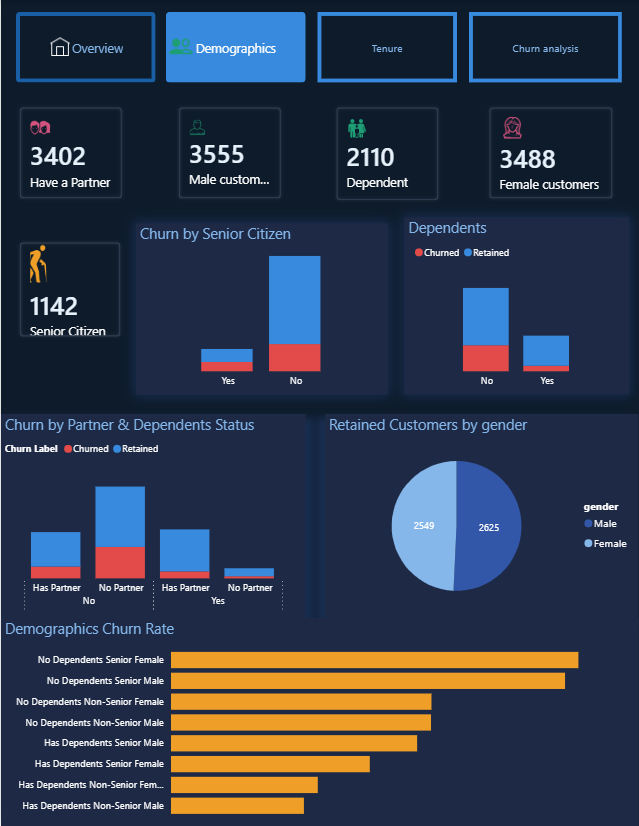

What the dashboard file says about the page in this screenshot:
{"tool":"powerbi","page":{"name":"Page 2","canvas":[816,1056],"ordinal":1},"visuals":[{"type":"cardVisual","fields":{"Data":["Telco_Customer_Churn_Dataset  (.Male customers"]},"box":[203.3,113.1,178.3,164.9],"z":0},{"type":"cardVisual","fields":{"Data":["Telco_Customer_Churn_Dataset  (.Female customers"]},"box":[600.2,113.1,205.2,164.9],"z":1000},{"type":"cardVisual","fields":{"Data":["Telco_Customer_Churn_Dataset  (.Customers w/Partner"]},"box":[0,113.1,178.3,164.9],"z":2000},{"type":"cardVisual","fields":{"Data":["Telco_Customer_Churn_Dataset  (.Dependent"]},"box":[404.6,113.1,178.3,166.8],"z":3000},{"type":"cardVisual","fields":{"Data":["Telco_Customer_Churn_Dataset  (.Senior Citizen"]},"box":[0,285.7,176.4,168.8],"z":4000},{"type":"pieChart","fields":{"Category":["Telco_Customer_Churn_Dataset  (.gender"],"Y":["Telco_Customer_Churn_Dataset  (.Retained Customers"]},"box":[414.2,529.3,400.8,260.8],"z":5000},{"type":"columnChart","title":"Dependents ","fields":{"Y":["Telco_Customer_Churn_Dataset  (.Total Customers"],"Category":["Telco_Customer_Churn_Dataset  (.Dependents"],"Series":["Telco_Customer_Churn_Dataset  (.Churn Label"]},"box":[515.9,278.1,287.7,226.3],"z":6000},{"type":"columnChart","title":"Churn by Senior Citizen","fields":{"Category":["Telco_Customer_Churn_Dataset  (.SeniorCitizen"],"Series":["Telco_Customer_Churn_Dataset  (.Churn Label"],"Y":["Telco_Customer_Churn_Dataset  (.Total Customers"]},"box":[172.6,285.7,322.2,218.6],"z":7000},{"type":"columnChart","title":"Churn by Partner & Dependents Status","fields":{"Series":["Telco_Customer_Churn_Dataset  (.Churn Label"],"Category":["Telco_Customer_Churn_Dataset  (.Dependents","Telco_Customer_Churn_Dataset  (.Partner Status"],"Y":["Telco_Customer_Churn_Dataset  (.Total Customers"]},"box":[0,529.3,389.3,260.8],"z":8000},{"type":"clusteredBarChart","title":"Demographics Churn Rate","fields":{"Y":["Telco_Customer_Churn_Dataset  (.Churn Rate"],"Category":["Telco_Customer_Churn_Dataset  (.Dependent Status","Telco_Customer_Churn_Dataset  (.Age Group","Telco_Customer_Churn_Dataset  (.gender"]},"box":[0,790.1,815,266.6],"z":9000},{"type":"group","id":"g1","title":"Group 1","box":[19.5,15.6,774.5,91.5],"z":10000},{"type":"actionButton","title":"Page 1","box":[19.5,15.6,178.3,90.1],"z":11000,"group":"g1"},{"type":"actionButton","title":"Page 2","box":[211.3,15.6,178.3,90.1],"z":12000,"group":"g1"},{"type":"actionButton","title":"Page 3","box":[405,15.6,178.3,90.1],"z":13000,"group":"g1"},{"type":"actionButton","title":"Page 3","box":[598.6,15.6,195.6,90.1],"z":14000,"group":"g1"}]}

Visuals, with their boxes in screenshot pixels (x1, y1, x2, y2), scaled from the page's 816x1056 canvas onto the 639x826 screenshot:
cardVisual - Telco_Customer_Churn_Dataset  (.Male customers: [159,88,299,217]
cardVisual - Telco_Customer_Churn_Dataset  (.Female customers: [470,88,631,217]
cardVisual - Telco_Customer_Churn_Dataset  (.Customers w/Partner: [0,88,140,217]
cardVisual - Telco_Customer_Churn_Dataset  (.Dependent: [317,88,456,219]
cardVisual - Telco_Customer_Churn_Dataset  (.Senior Citizen: [0,223,138,356]
pieChart - Telco_Customer_Churn_Dataset  (.gender x Telco_Customer_Churn_Dataset  (.Retained Customers: [324,414,638,618]
"Dependents " columnChart: [404,218,629,395]
"Churn by Senior Citizen" columnChart: [135,223,387,394]
"Churn by Partner & Dependents Status" columnChart: [0,414,305,618]
"Demographics Churn Rate" clusteredBarChart: [0,618,638,825]
"Group 1" group: [15,12,622,84]
"Page 1" actionButton: [15,12,155,83]
"Page 2" actionButton: [165,12,305,83]
"Page 3" actionButton: [317,12,457,83]
"Page 3" actionButton: [469,12,622,83]
